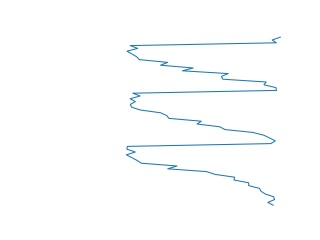distributaryMouthBar: (122, 31, 286, 209)
